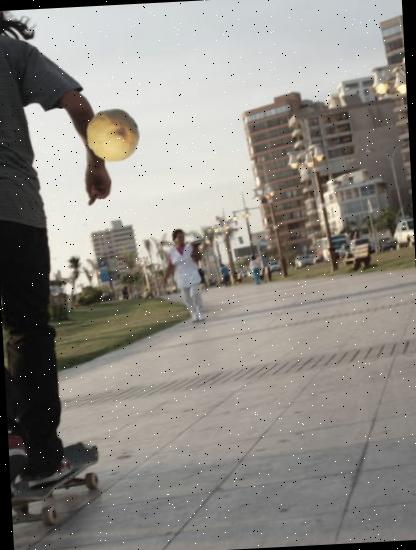Lemon: (85, 106, 142, 163)
